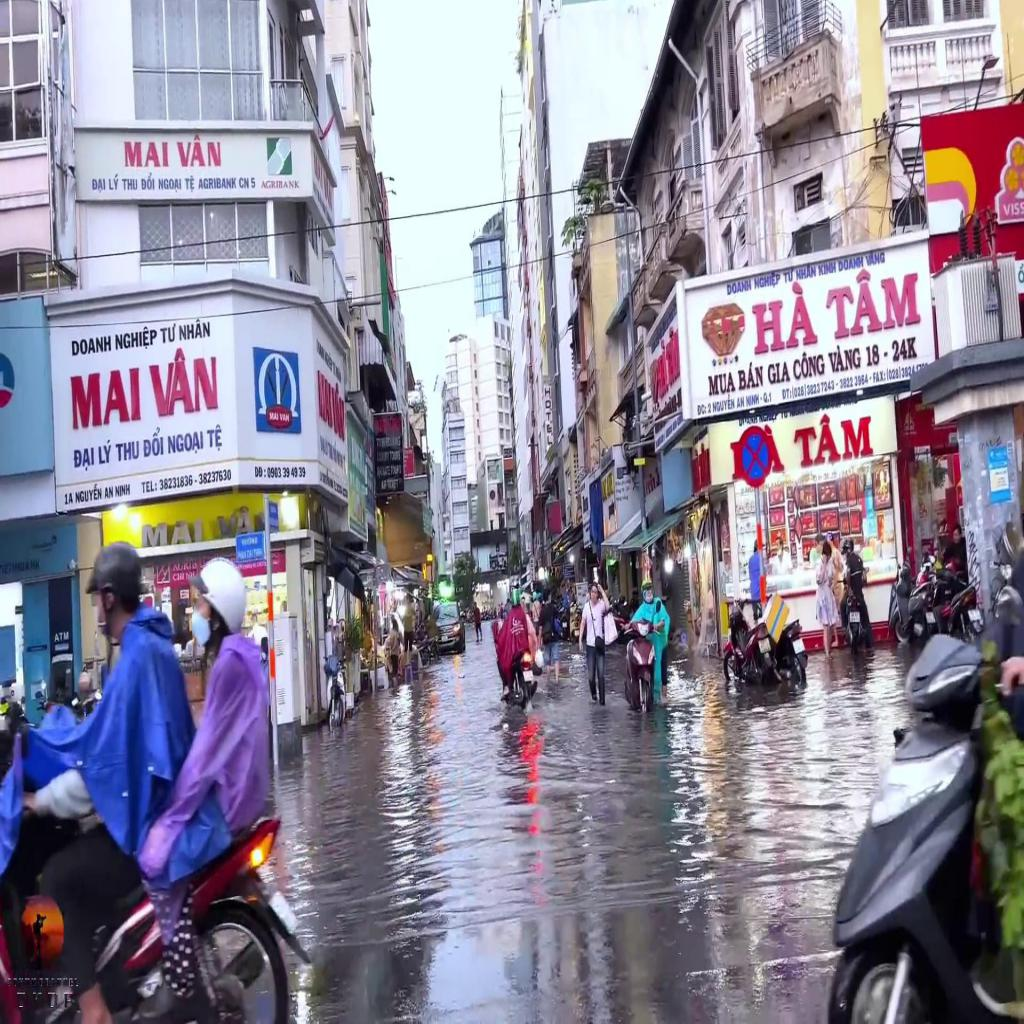cam_dung_xe_va_do_xe: (738, 425, 772, 486)
